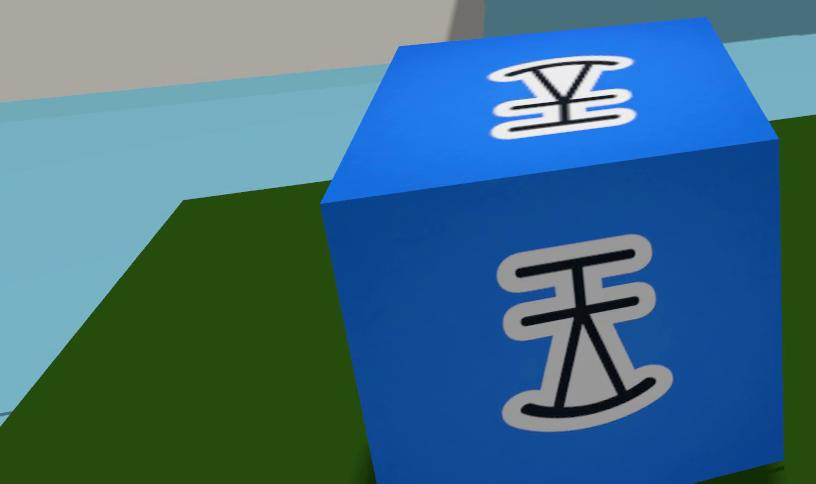KFS_REAL: (319, 20, 783, 483), (498, 234, 672, 432), (488, 57, 636, 139)
